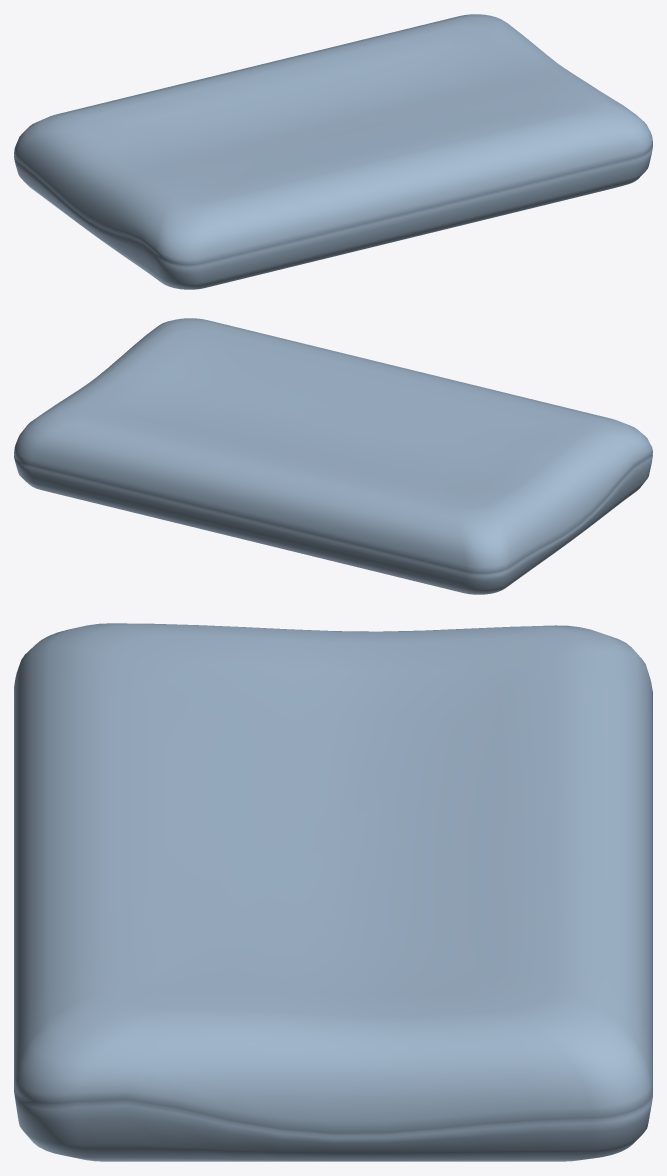
Rendered from pillow-atour-pro4-v1.glb.
The picture shows the model from 3 angles, top to bottom: view 1: azimuth 30°, elevation 25°; view 2: azimuth 150°, elevation 25°; view 3: azimuth 270°, elevation 25°; orthographic projection. The views are drawn at different scales.
Parts seen in each view (by area): view 1: Contoured blue pillowcase; view 2: Contoured blue pillowcase; view 3: Contoured blue pillowcase.
Part boxes in pixels (x1,y1,x2,y2): Contoured blue pillowcase: (14,14,652,289); Contoured blue pillowcase: (14,318,652,594); Contoured blue pillowcase: (14,623,652,1161).
Size of the model in its own units: 0.7 by 0.1 by 0.42.
